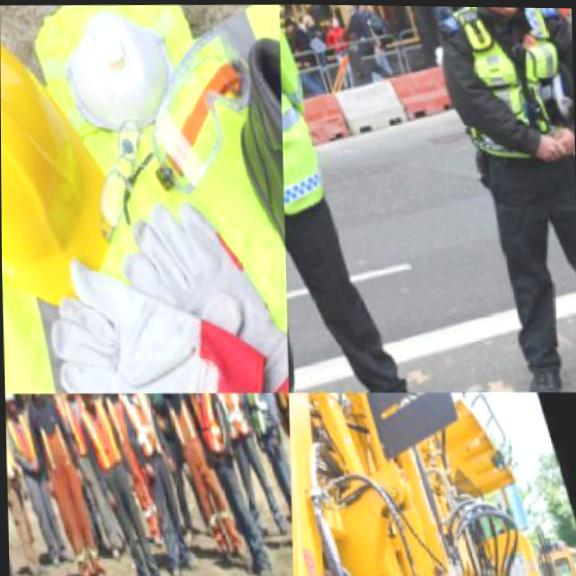safety_vest: (0, 0, 287, 396), (442, 7, 575, 172), (278, 4, 349, 242), (70, 398, 124, 480), (112, 392, 169, 461), (181, 392, 230, 457), (203, 392, 257, 443), (5, 407, 42, 480), (230, 392, 280, 436), (260, 393, 288, 431), (6, 420, 20, 489)
